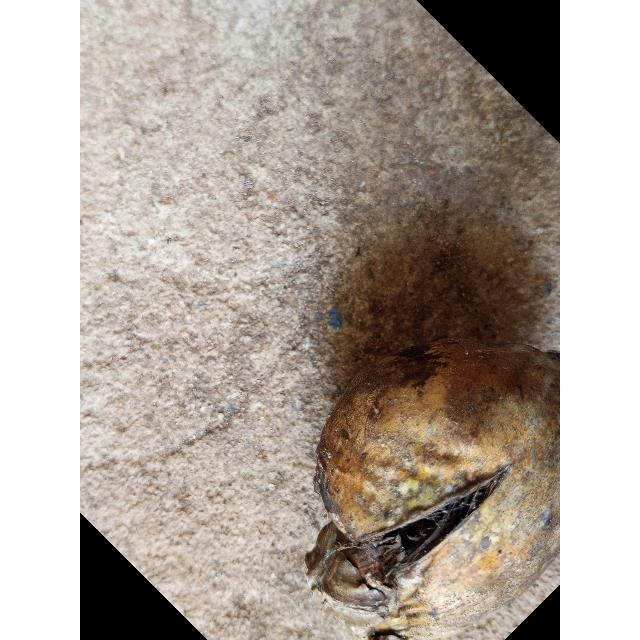damaged: (306, 339, 560, 640)
